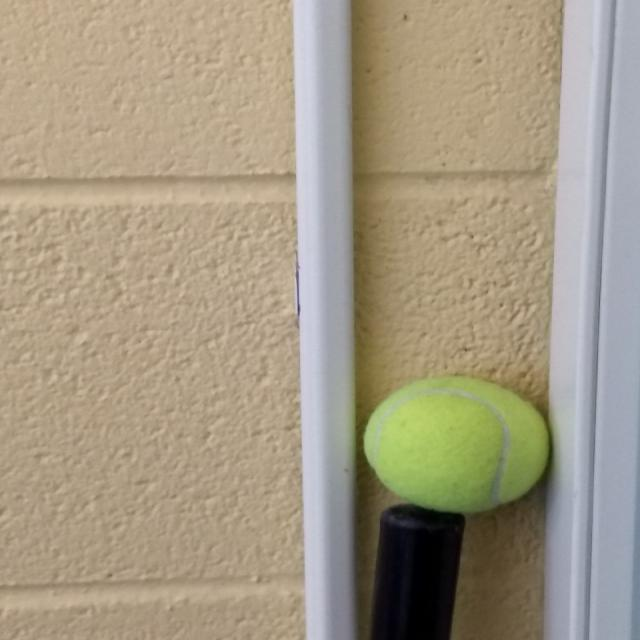Tennis-Ball: (359, 368, 557, 519)
